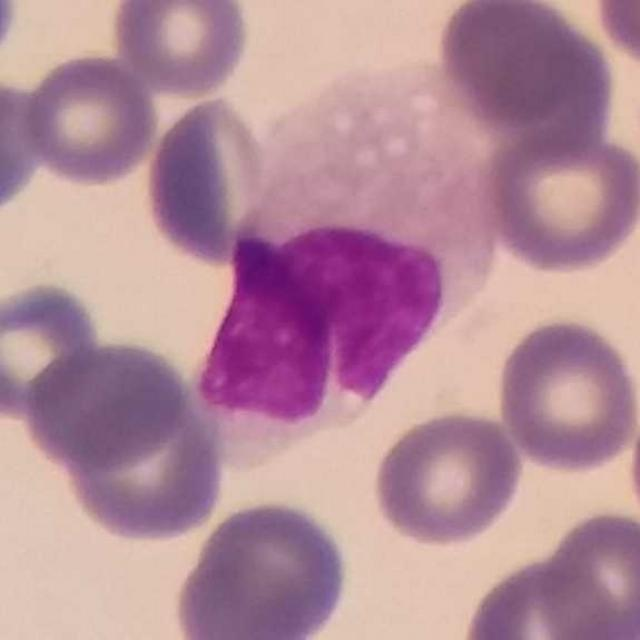mono: (182, 59, 512, 460)
